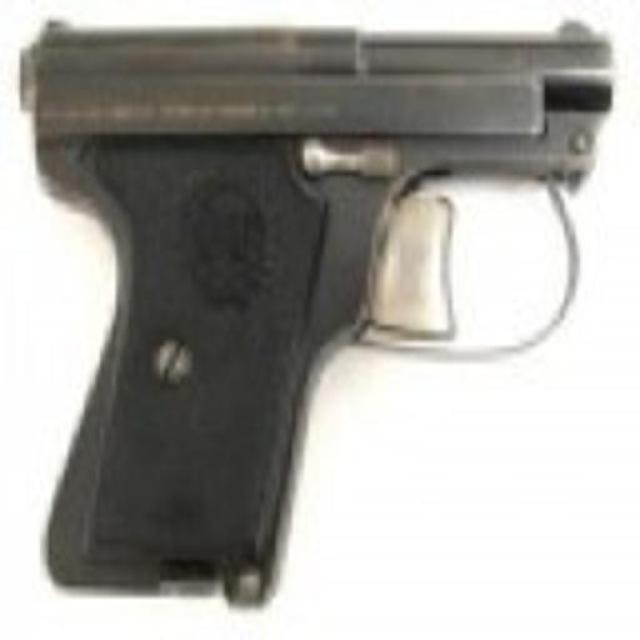pistol: (20, 15, 611, 596)
